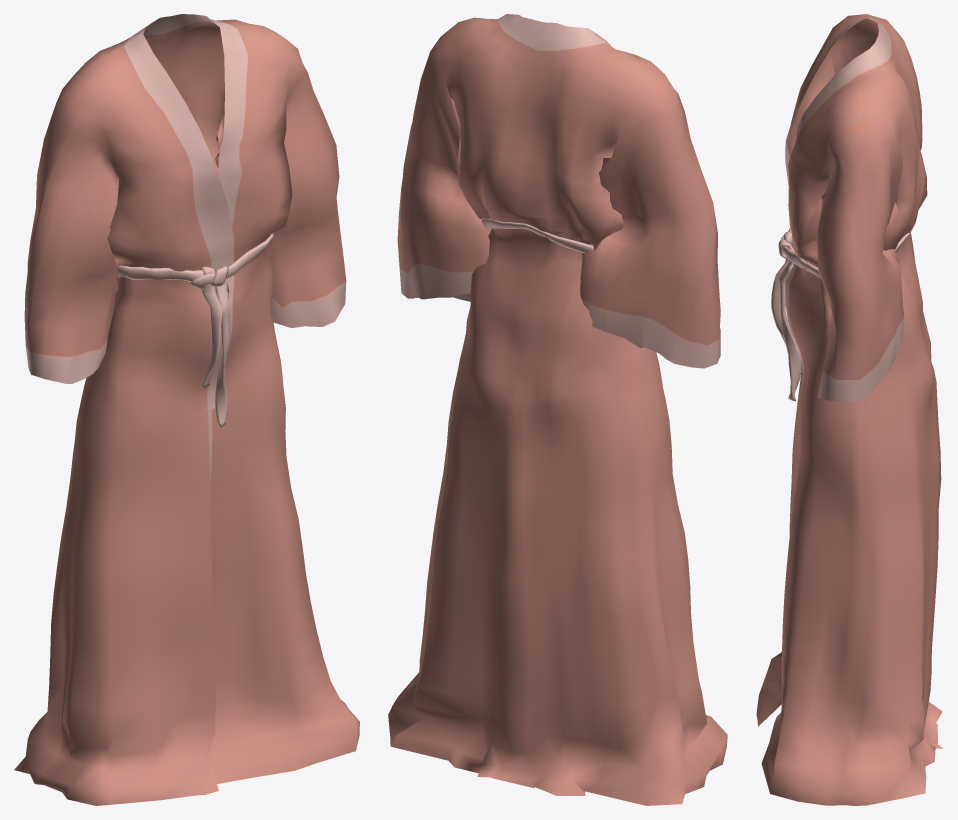
The model's file is mindfront-kimono.glb.
3 views of the same model, side by side, from view 1: azimuth 30°, elevation 25°; view 2: azimuth 150°, elevation 25°; view 3: azimuth 270°, elevation 25° (orthographic). The views are drawn at different scales.
Parts seen in each view (by area): view 1: Human.mindfront_kimono; view 2: Human.mindfront_kimono; view 3: Human.mindfront_kimono.
Part boxes in pixels (box(x1,y1,x2,y2)): Human.mindfront_kimono: box(14, 14, 359, 805); Human.mindfront_kimono: box(388, 14, 727, 805); Human.mindfront_kimono: box(756, 14, 942, 805).
Bounding box in the file's own units: 0.7305 × 1.62 × 0.3891.
1 material, 1 textured.
